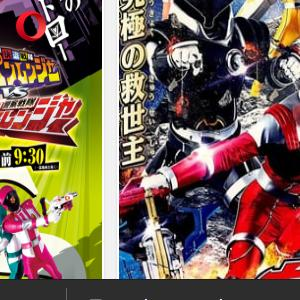opera: (15, 11, 46, 42)
